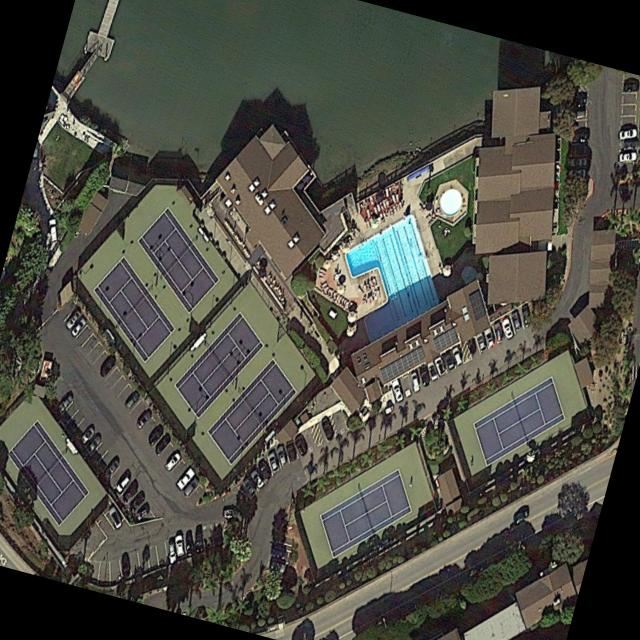small-vehicle: (126, 488, 148, 514), (175, 465, 197, 490), (98, 353, 118, 377), (320, 414, 337, 442), (132, 501, 152, 522), (70, 315, 89, 337), (154, 431, 173, 453), (164, 449, 183, 471), (85, 432, 104, 454), (256, 458, 274, 481), (79, 423, 97, 446), (64, 307, 82, 329), (135, 408, 153, 430), (121, 482, 139, 504), (103, 457, 121, 478), (294, 431, 309, 456), (183, 475, 200, 497), (108, 504, 123, 528), (284, 438, 299, 462), (123, 390, 141, 410), (183, 529, 196, 556), (512, 507, 530, 526), (57, 392, 74, 412), (266, 558, 287, 574), (391, 377, 404, 401), (442, 349, 456, 371), (148, 425, 164, 444), (250, 467, 265, 487), (242, 476, 257, 496), (194, 525, 205, 552), (121, 550, 132, 577), (269, 546, 289, 560), (570, 130, 591, 143), (116, 473, 131, 491), (502, 316, 514, 338), (268, 450, 280, 472), (174, 532, 185, 555), (434, 355, 446, 376), (410, 369, 421, 391), (622, 78, 639, 92), (476, 330, 487, 351), (276, 443, 287, 464), (494, 320, 504, 343), (452, 344, 463, 364), (427, 360, 438, 380), (420, 363, 430, 385), (168, 541, 178, 563), (619, 127, 637, 139), (49, 216, 58, 240), (512, 309, 522, 329), (568, 167, 588, 177), (619, 150, 637, 161), (522, 303, 531, 325), (485, 326, 495, 345), (568, 156, 589, 165)
